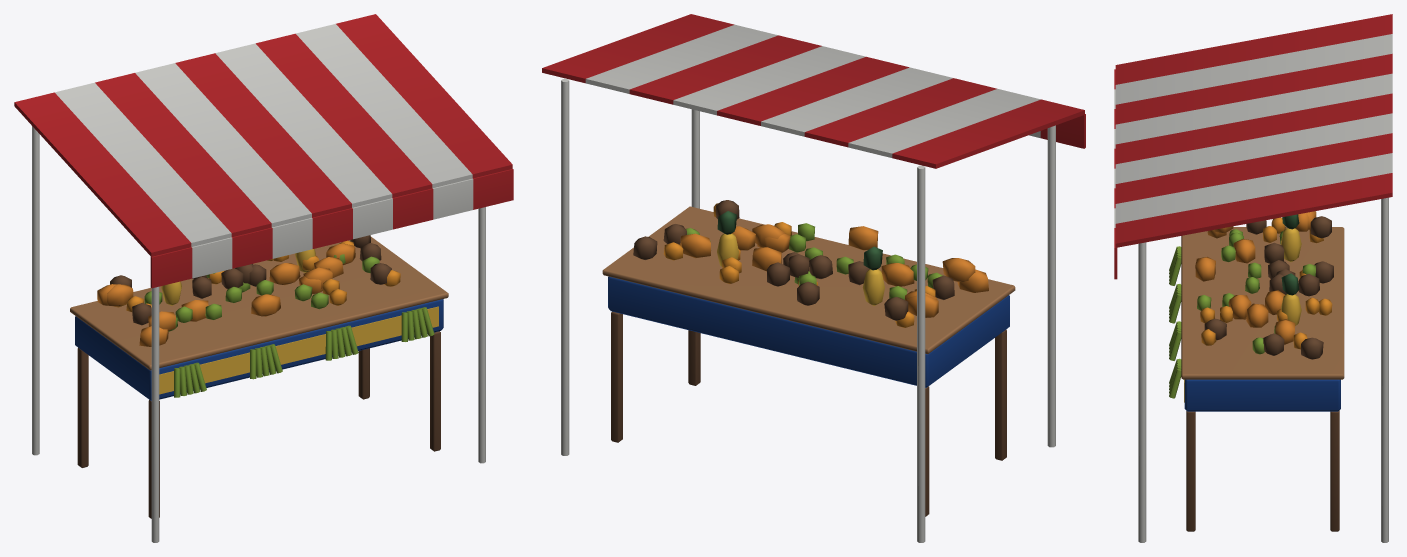
File: StallAwningMIA.fbx
3 renders of one model, left to right at view 1: azimuth 30°, elevation 25°; view 2: azimuth 150°, elevation 25°; view 3: azimuth 270°, elevation 25°, orthographic. The views are drawn at different scales.
Visible parts, largest first — view 1: StallAwningMIA; view 2: StallAwningMIA; view 3: StallAwningMIA.
Boxes of the visible parts, x1,y1,x2,y2 form: StallAwningMIA: (14, 14, 513, 542); StallAwningMIA: (542, 14, 1085, 542); StallAwningMIA: (1114, 14, 1392, 542).
Bounding box in the file's own units: 2.7 × 2.52 × 1.78.
